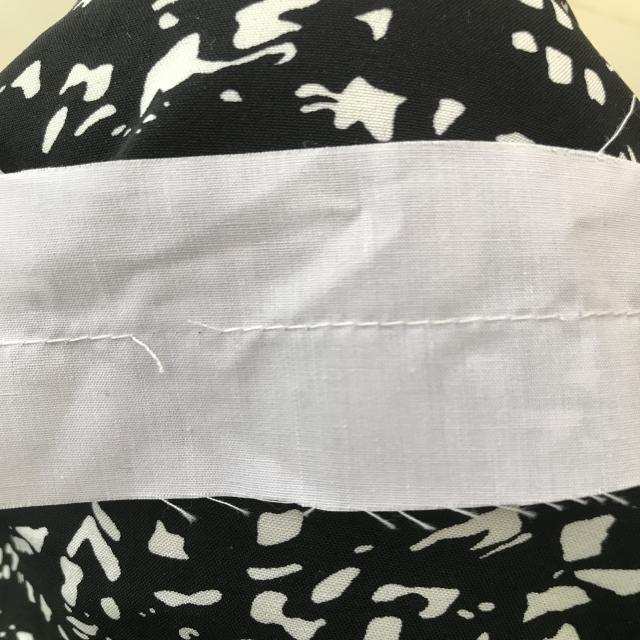broken: (112, 314, 248, 384)
